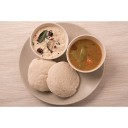idly: (48, 62, 79, 97), (29, 58, 57, 90)
